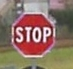stop: (10, 10, 55, 58)
